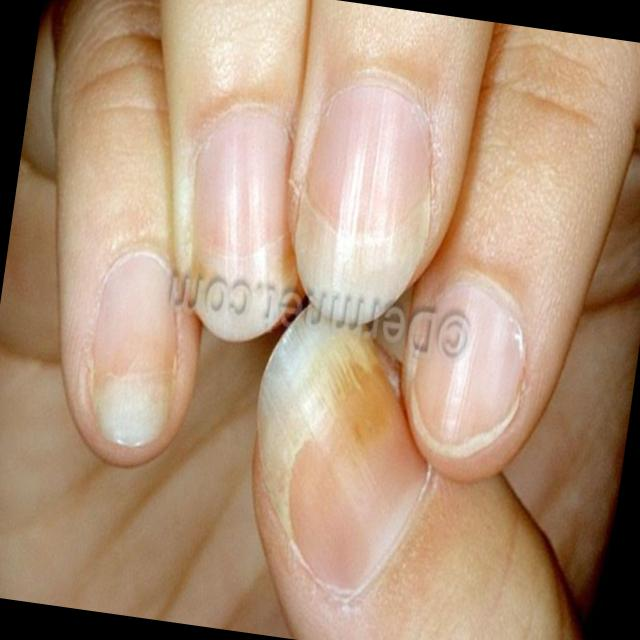Nail: (256, 302, 431, 597), (294, 83, 431, 323), (189, 111, 297, 339), (407, 273, 524, 457), (88, 248, 177, 444)
